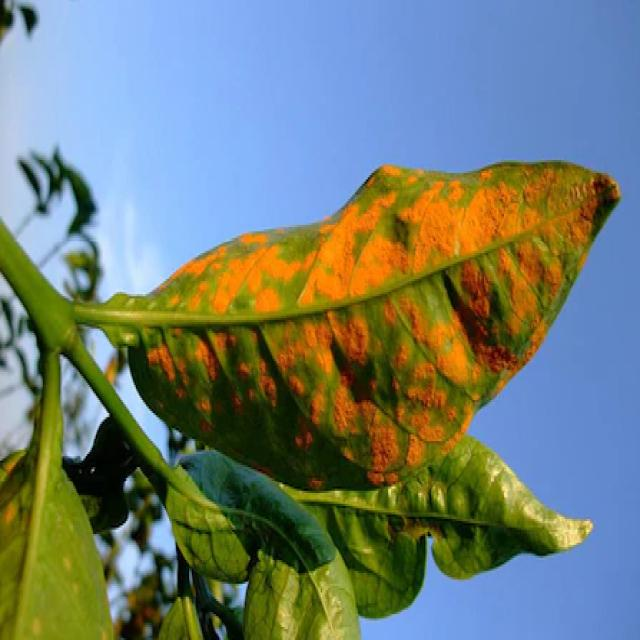leaf_rust: (79, 162, 619, 486)
